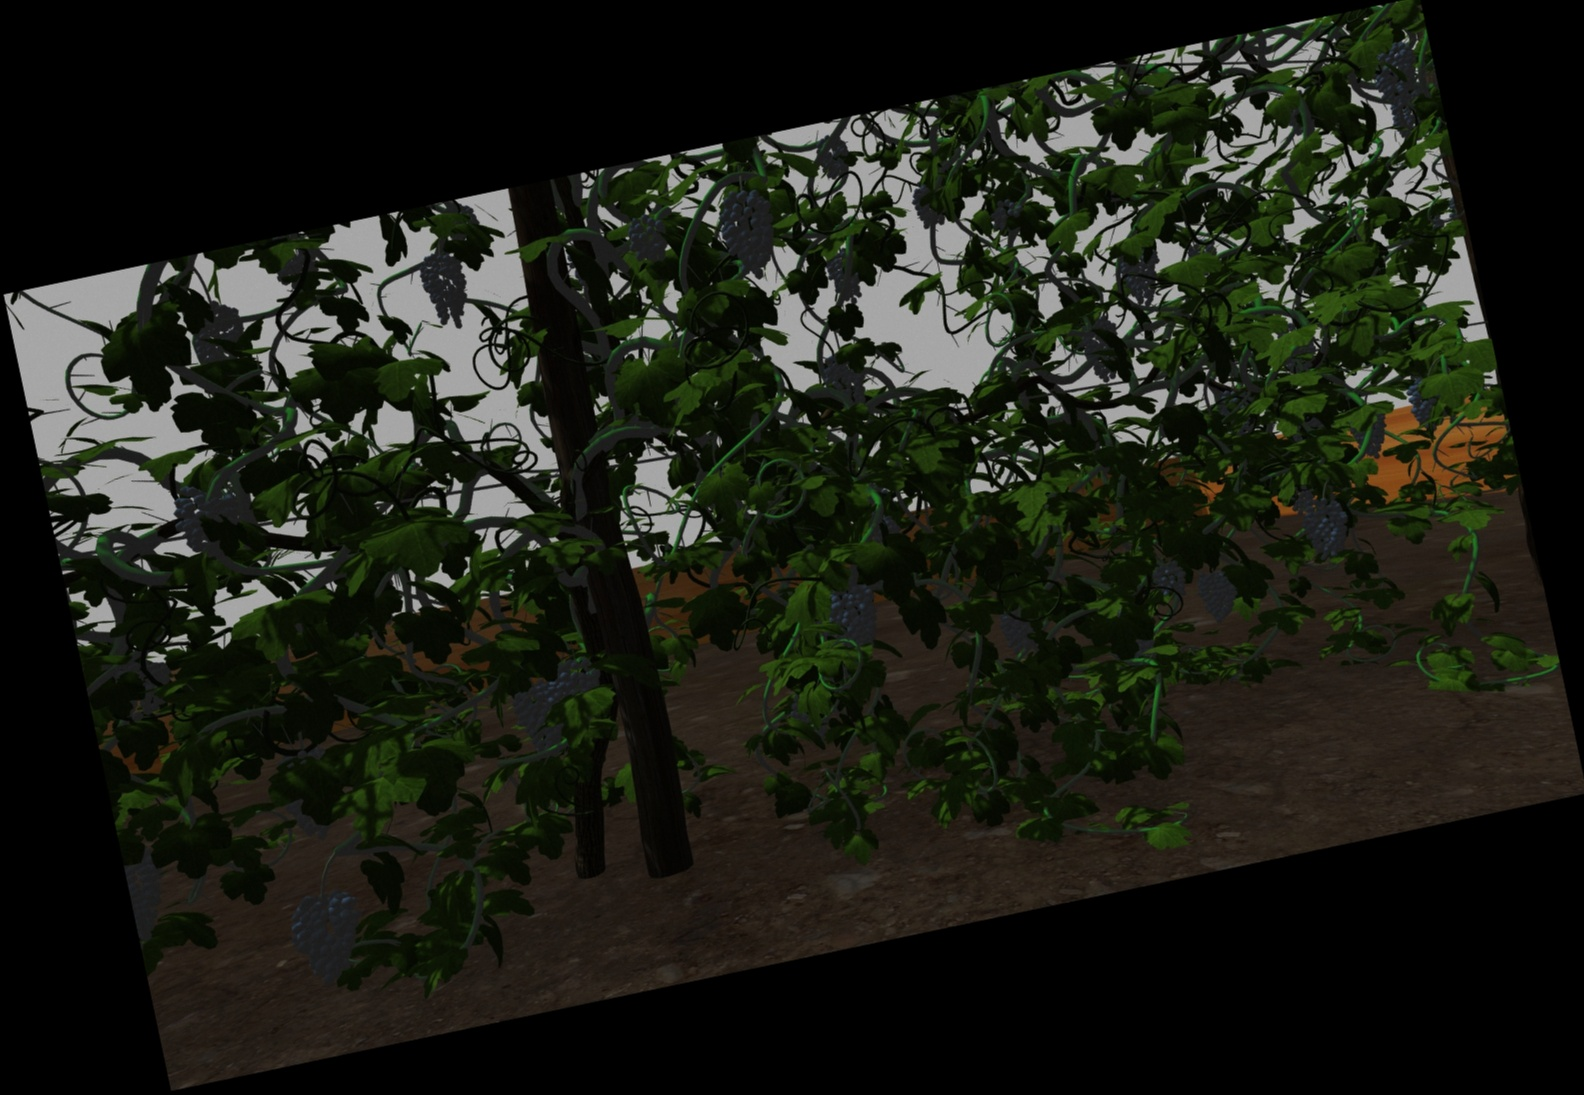grape: (173, 469, 258, 575), (292, 893, 368, 985), (719, 183, 776, 282), (421, 251, 469, 333), (188, 295, 244, 363), (516, 683, 561, 760), (831, 584, 880, 649), (1304, 498, 1350, 562), (826, 347, 868, 412), (1119, 238, 1159, 307), (1084, 316, 1122, 380), (627, 213, 670, 266), (1199, 572, 1242, 625), (1375, 45, 1417, 97), (1408, 377, 1443, 434), (1350, 409, 1389, 461), (555, 658, 599, 700), (824, 249, 861, 301), (1152, 556, 1188, 602), (1001, 611, 1038, 656), (817, 134, 852, 179), (1388, 95, 1415, 137), (989, 199, 1023, 230)
